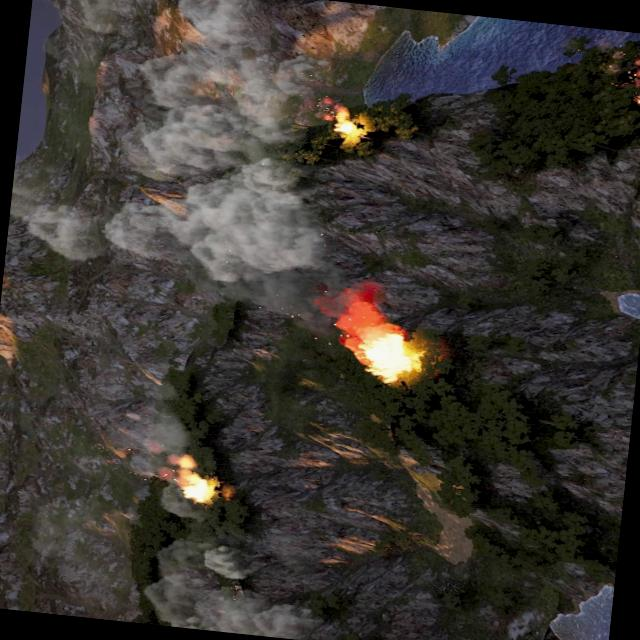fire: (346, 322, 426, 385), (172, 454, 220, 504), (328, 104, 365, 140), (635, 92, 640, 106)
smoke: (12, 0, 487, 352), (137, 535, 329, 640), (114, 408, 194, 478), (610, 52, 640, 88)
